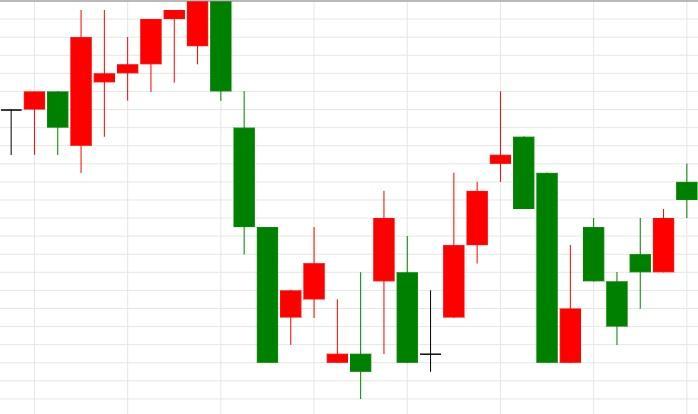bearish_engulfing_fall: (70, 0, 233, 173)
three_black_crows_fall: (71, 0, 279, 363)
